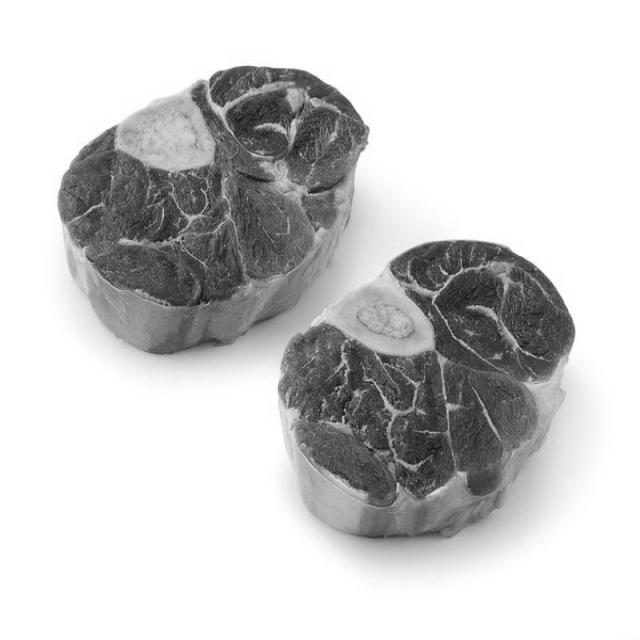ham hock: (278, 237, 572, 534), (55, 66, 359, 352)
